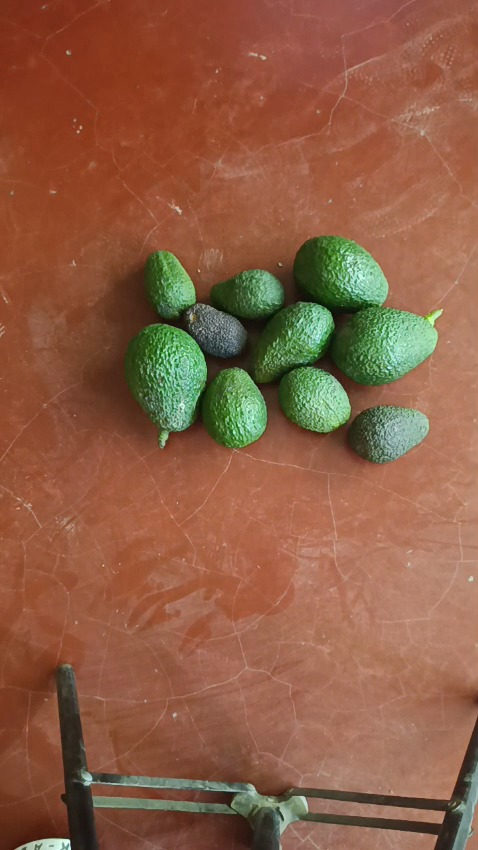Primera: (331, 304, 439, 385), (125, 326, 206, 428)
Segunda: (292, 236, 388, 313), (250, 301, 335, 383)
Tercera: (201, 367, 267, 448), (277, 365, 351, 432), (347, 405, 430, 463), (210, 269, 285, 321), (179, 303, 247, 359), (144, 250, 196, 321)
